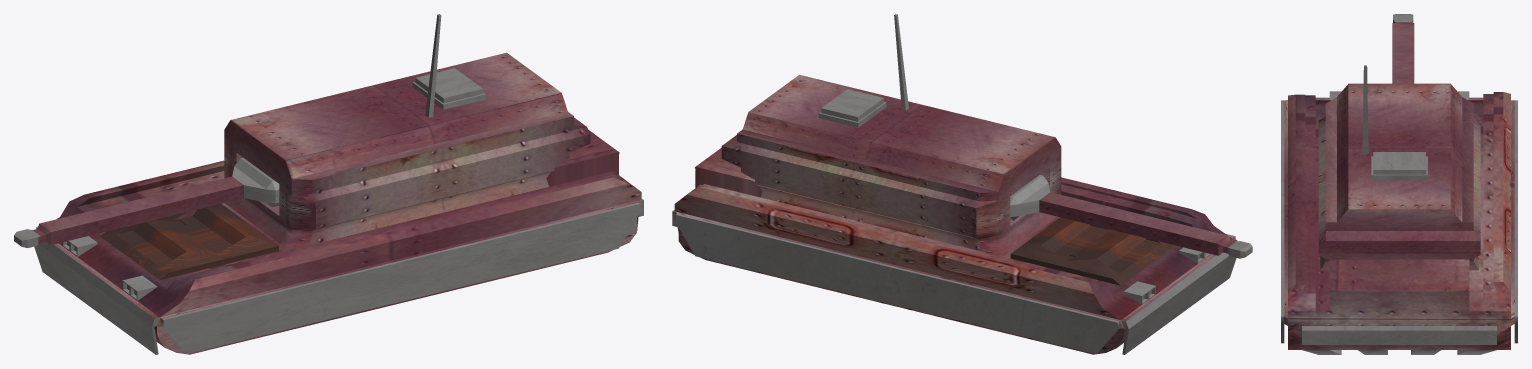
3 renders of one model, left to right at view 1: azimuth 30°, elevation 25°; view 2: azimuth 150°, elevation 25°; view 3: azimuth 270°, elevation 25°, orthographic. The views are drawn at different scales.
Visible parts, largest first — view 1: pCube5; view 2: pCube5; view 3: pCube5.
Part boxes in pixels (box(x1,y1,x2,y2)): pCube5: box(14, 14, 643, 354); pCube5: box(672, 14, 1252, 354); pCube5: box(1281, 14, 1517, 354).
Size of the model in its own units: 894 by 365 by 345.
3 materials, 3 textured.
